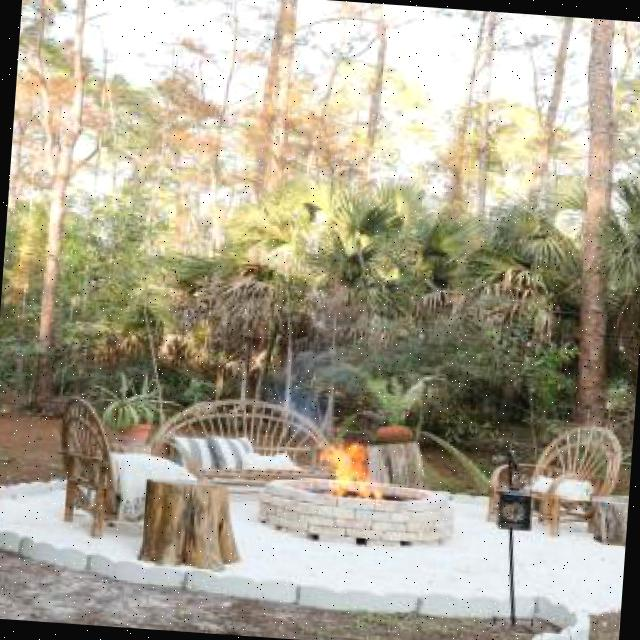fire: (317, 439, 388, 501)
